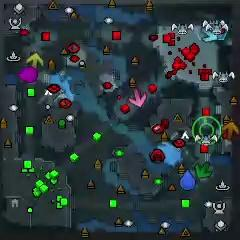p1: (180, 169, 196, 192)
p3: (17, 66, 38, 83)
x1: (130, 89, 147, 107)
x2: (27, 52, 43, 69)
x3: (202, 27, 217, 43)
x4: (195, 161, 211, 178)
x5: (223, 120, 239, 141)
